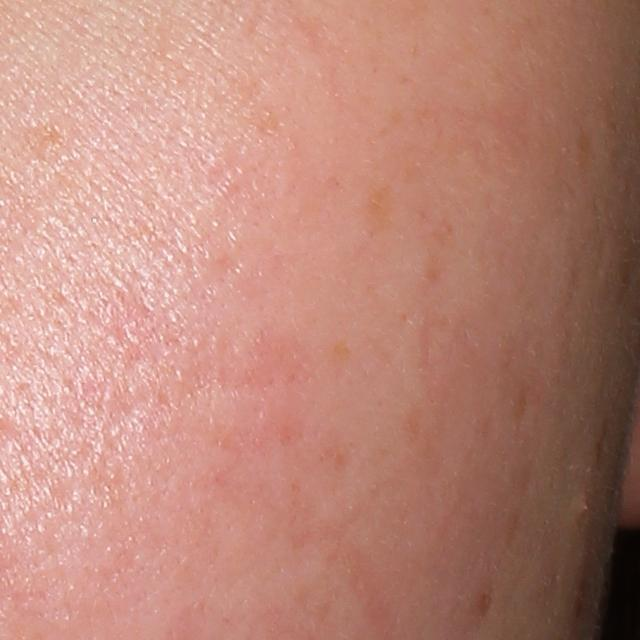melasma: (359, 180, 400, 239)
